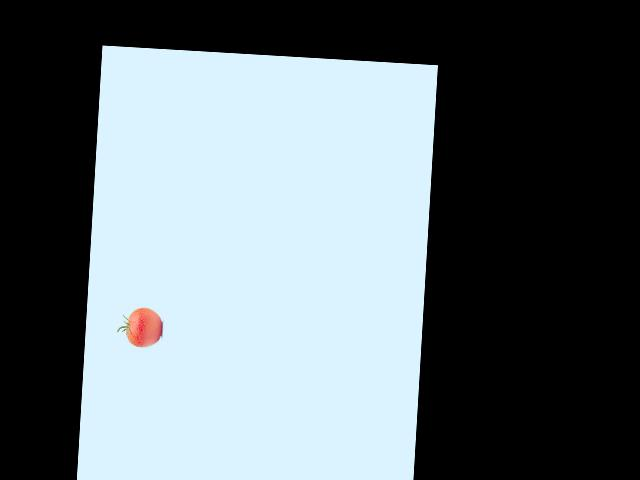tomato: (125, 306, 163, 348)
